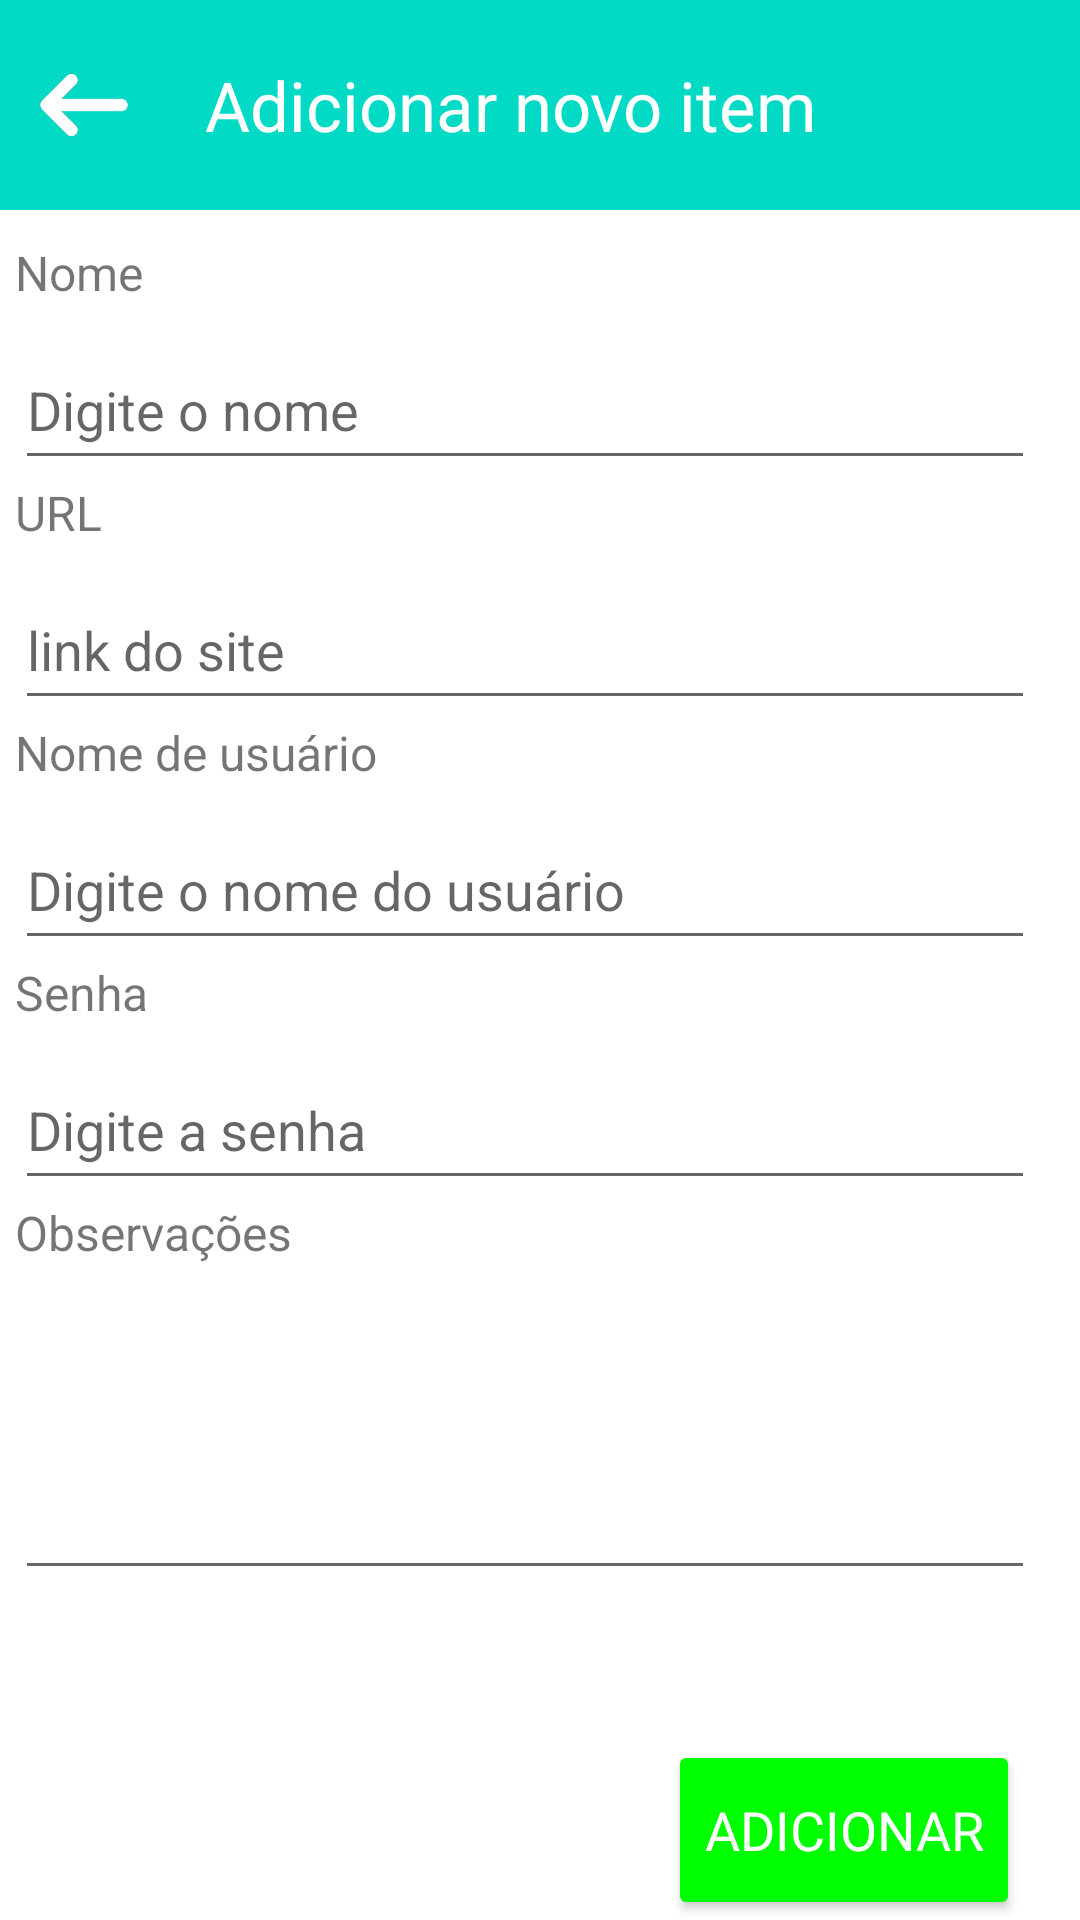

Named icons in this screenshot (1080*1920) and their centers, (x,y):
backactivity: (84,105)
